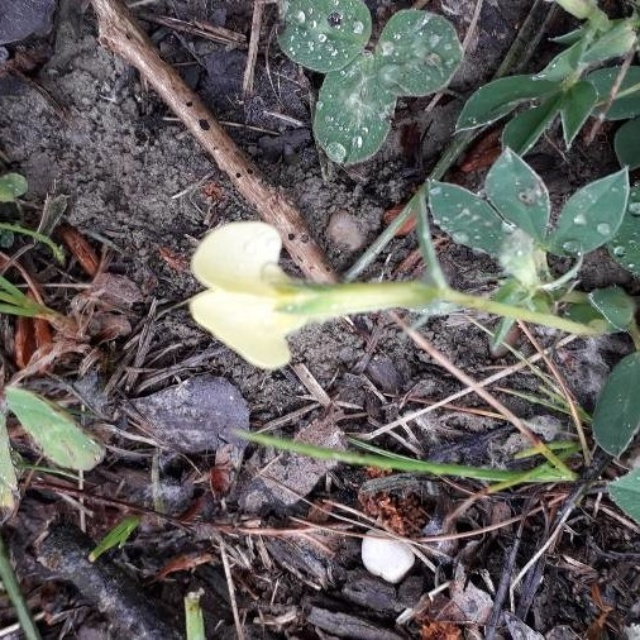obstacle: (261, 27, 613, 311)
